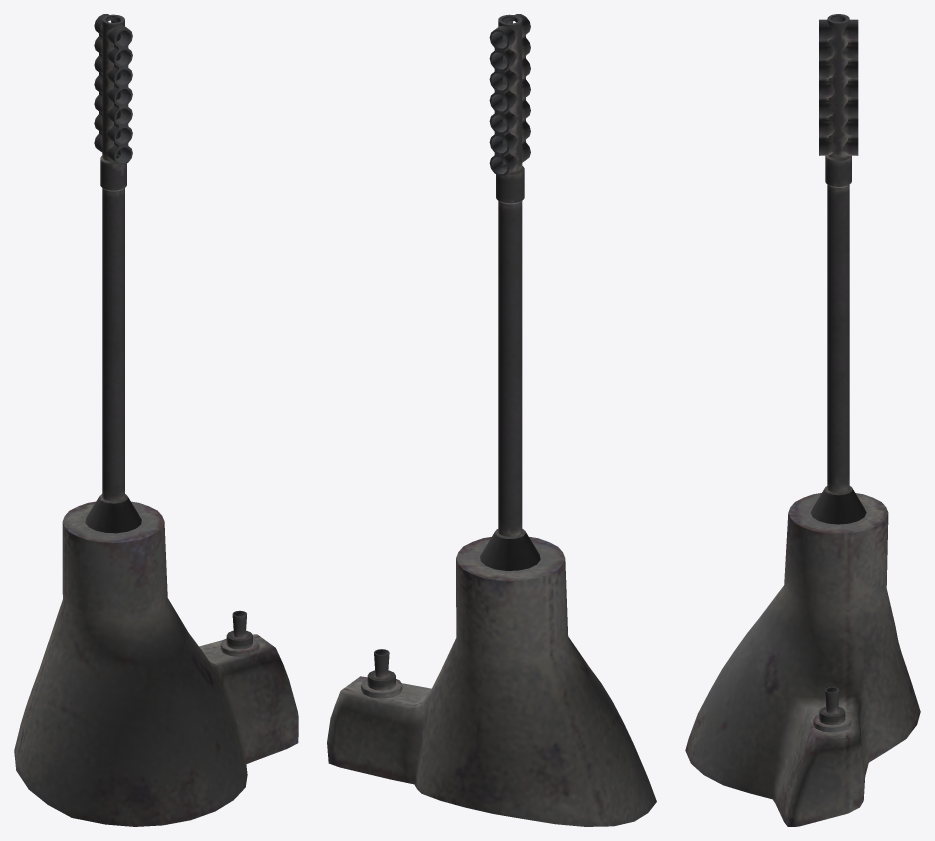
The model's file is Gun_03.glb.
3 views of the same model, side by side, from view 1: azimuth 30°, elevation 25°; view 2: azimuth 150°, elevation 25°; view 3: azimuth 270°, elevation 25° (orthographic). The views are drawn at different scales.
Visible parts, largest first — view 1: set_0_group_0; view 2: set_0_group_0; view 3: set_0_group_0.
Part boxes in pixels (x1,y1,x2,y2): set_0_group_0: (14,14,298,826); set_0_group_0: (327,14,656,826); set_0_group_0: (685,14,920,826).
Bounding box in the file's own units: 0.6292 × 1.68 × 0.4893.
1 material, 1 textured.
